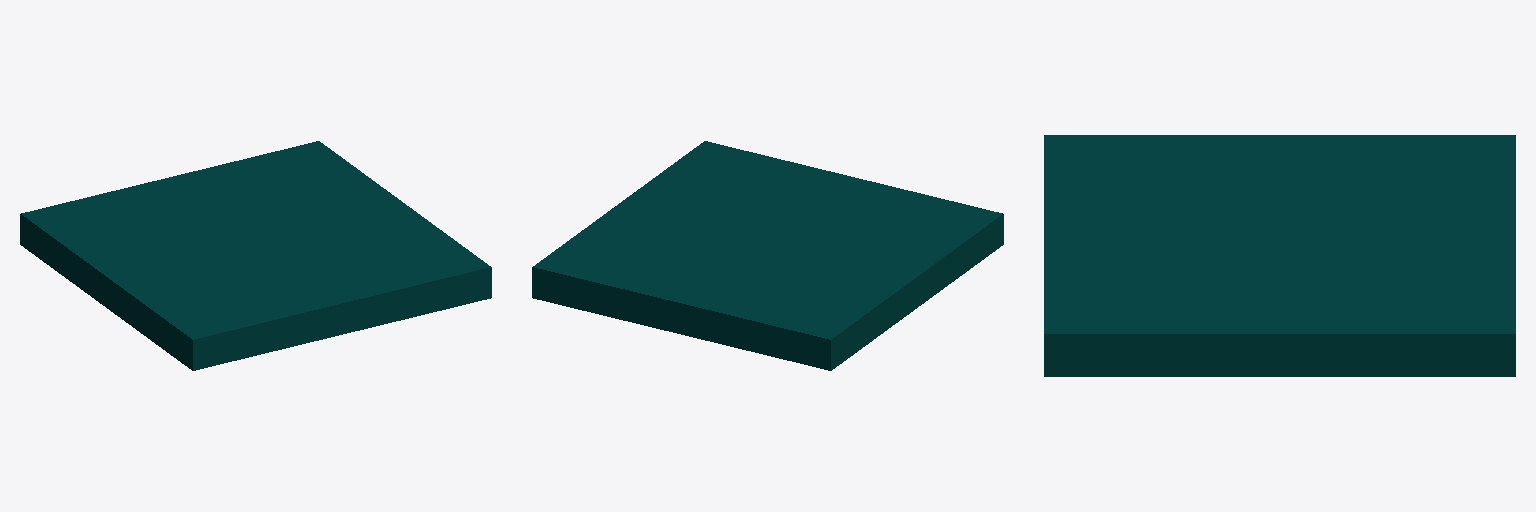
robot.urdf — table:
<robot name="table">
  <link name="table">

    <!-- rosrun gazebo_ros spawn_model -file $(rospack find ur5_single_arm_tufts)/urdf/objects/table.urdf -urdf -x 0.5 -y -0 -z 0.75 -model table -->
    
    <inertial>
      <origin xyz="0.23 0 0.755" rpy="0 0 0" />
      <mass value="1"/>
      <inertia
        ixx="0.07" ixy="0.0" ixz="0.0"
        iyy="0.40" iyz="0.0"
        izz="0.33"/>
    </inertial>

    <visual>
      <geometry>
        <box size="0.5 0.5 0.05"/>
      </geometry>
      <material name="Green">
        <color rgba="0.039 0.306 0.302 1"/>
      </material>
    </visual>

    <collision>
      <geometry>
        <box size="0.5 0.5 0.05"/>
      </geometry>
    </collision>

  </link>

  <gazebo reference="table">
    <material>Gazebo/Wood</material>
  </gazebo> 

  <gazebo>
    <static>true</static>
  </gazebo>

</robot>

--- Render facts (derived) ---
The picture shows the robot from 3 angles, left to right: view 1: azimuth 30°, elevation 25°; view 2: azimuth 150°, elevation 25°; view 3: azimuth 270°, elevation 25°; orthographic projection.
Robot: table — 1 links, 0 joints (none); root link table; default pose: every joint at zero.
Visible links, largest first — view 1: table; view 2: table; view 3: table.
Link boxes in pixels (left/top/right/bottom): table: left=20, top=141, right=491, bottom=370; table: left=532, top=141, right=1003, bottom=370; table: left=1044, top=135, right=1515, bottom=376.
Size in the robot's own frame: 0.5 by 0.5 by 0.05 metres.
Geometry: primitives only (box / cylinder / sphere), no mesh files.
